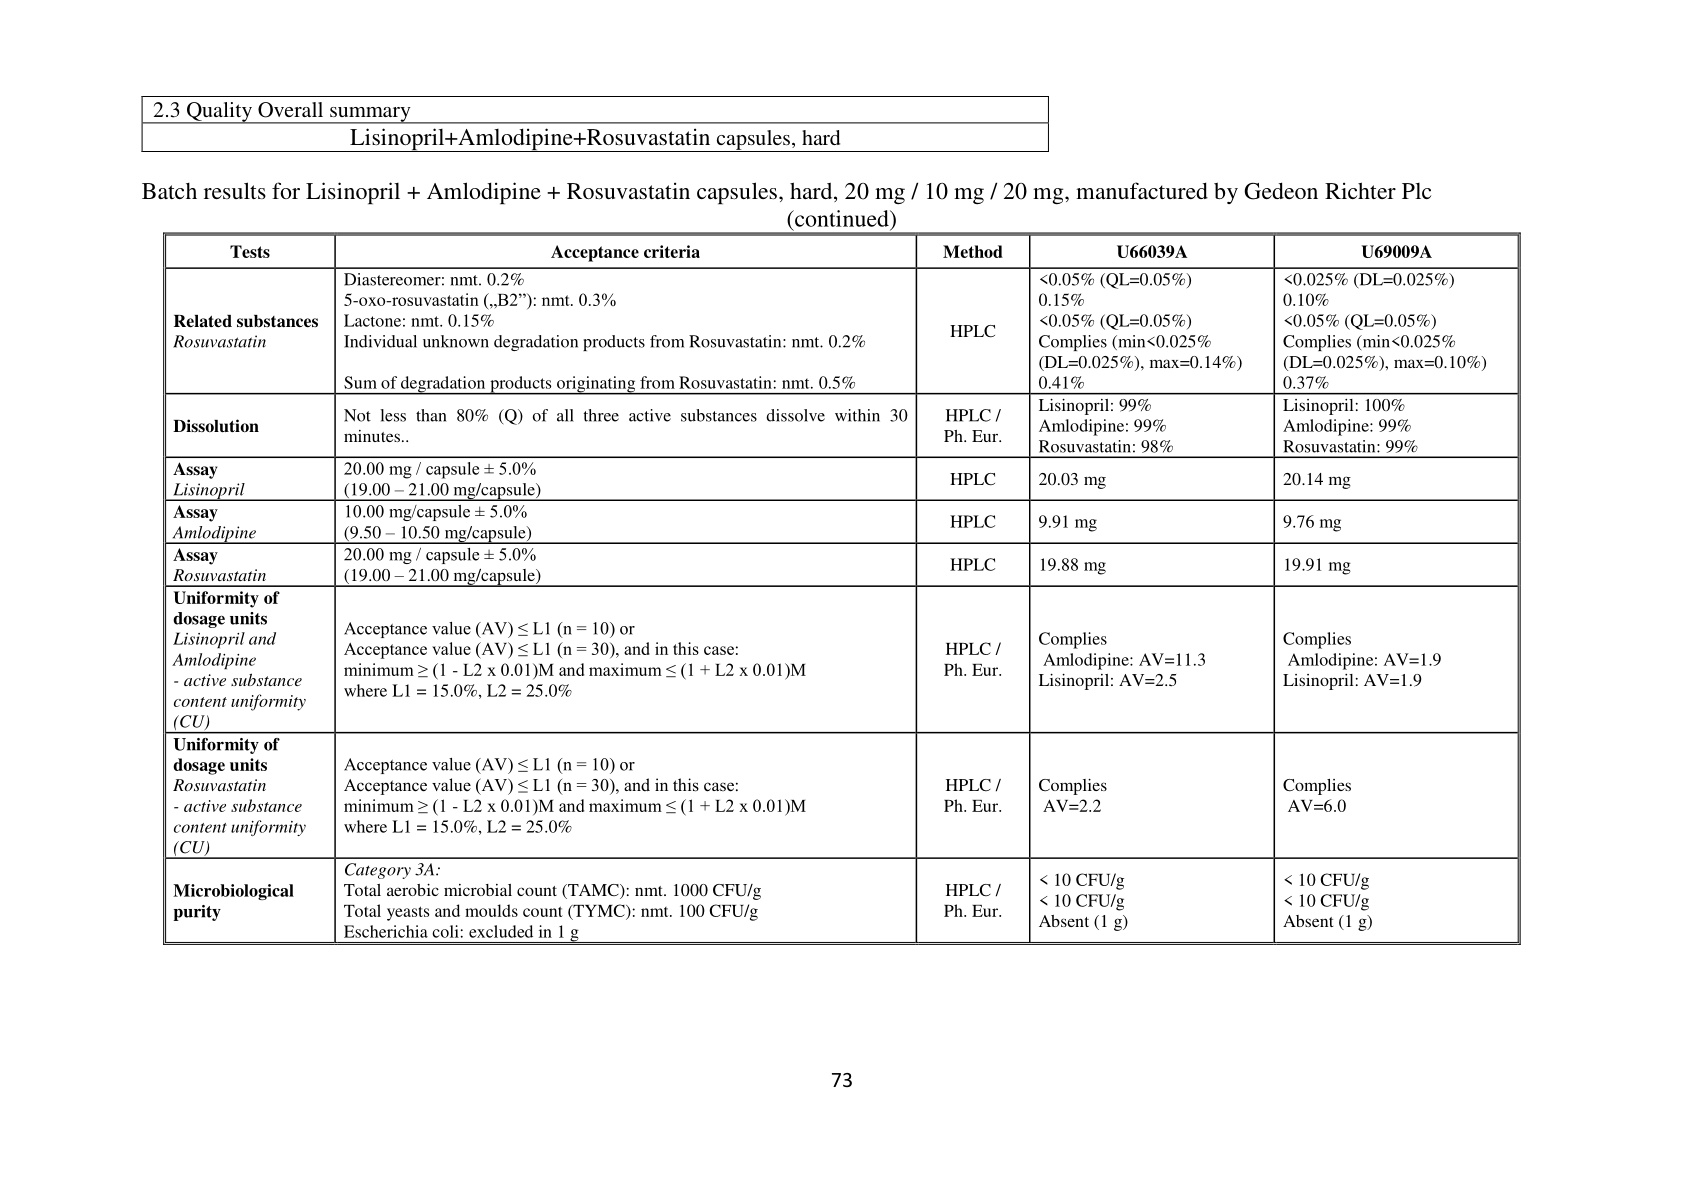full_lined: (164, 232, 1522, 945), (140, 95, 1050, 153)
